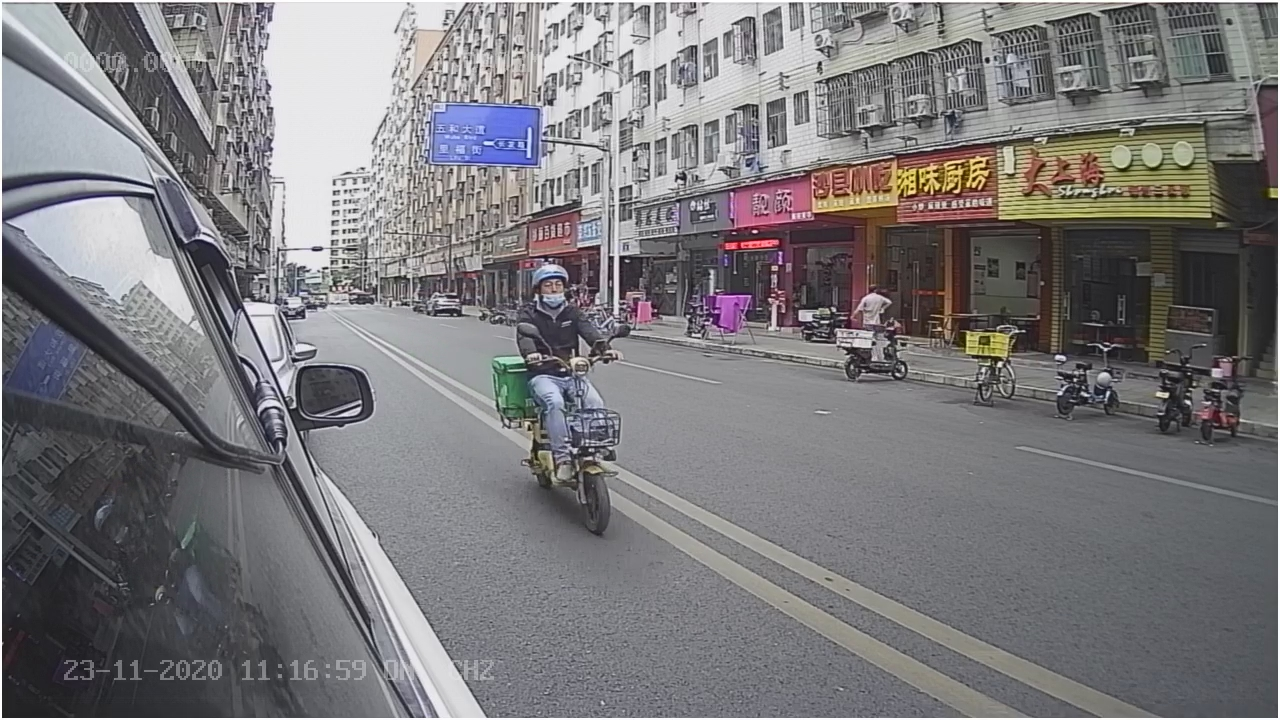person: (510, 262, 625, 375)
